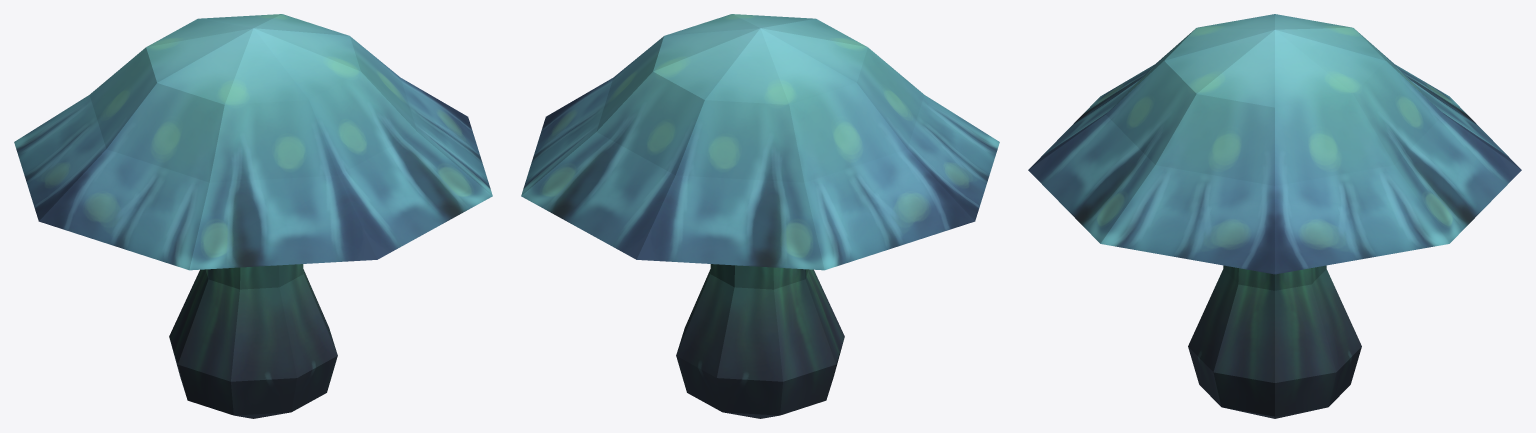
The model's file is 95_Mushroom.FBX.
3 renders of one model, left to right at view 1: azimuth 30°, elevation 25°; view 2: azimuth 150°, elevation 25°; view 3: azimuth 270°, elevation 25°, orthographic.
Parts seen in each view (by area): view 1: Cylinder020; view 2: Cylinder020; view 3: Cylinder020.
Part boxes in pixels (bbox=[...]): Cylinder020: bbox=[14, 14, 492, 418]; Cylinder020: bbox=[521, 14, 999, 418]; Cylinder020: bbox=[1028, 14, 1521, 418].
Size of the model in its own units: 52.8 by 45.93 by 52.8.
